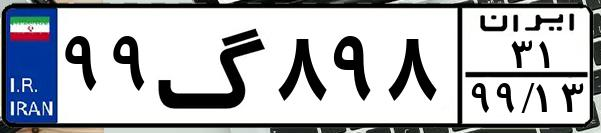1: (537, 27, 568, 80), (535, 70, 560, 125)
3: (560, 70, 590, 125), (508, 27, 537, 80)
8: (270, 28, 330, 110), (385, 28, 445, 110)
9: (330, 28, 385, 110), (57, 26, 110, 100), (110, 28, 156, 98), (470, 70, 495, 125), (495, 70, 520, 125)
گ: (156, 12, 270, 120)
